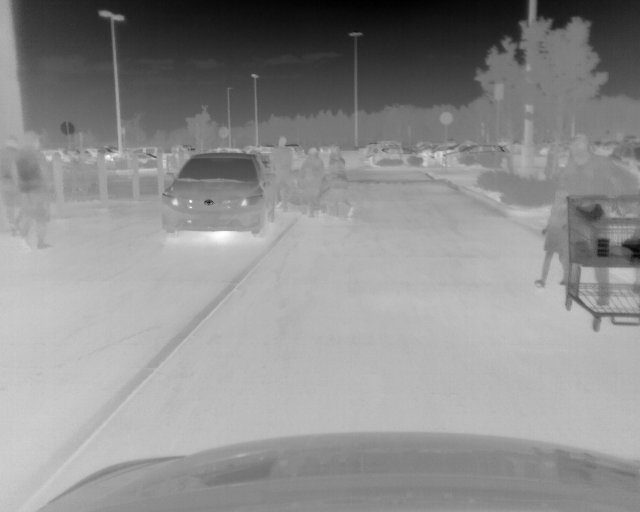car: (160, 153, 275, 237), (442, 144, 509, 166), (376, 146, 428, 166)
people: (556, 137, 632, 299), (15, 130, 52, 251), (538, 189, 571, 288), (327, 147, 355, 221), (1, 134, 21, 232), (300, 148, 323, 219), (272, 136, 291, 213)
